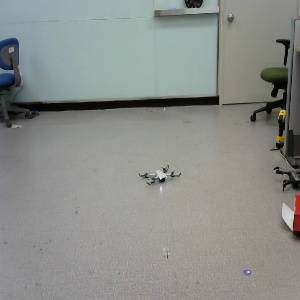Drone: (139, 163, 182, 189)
